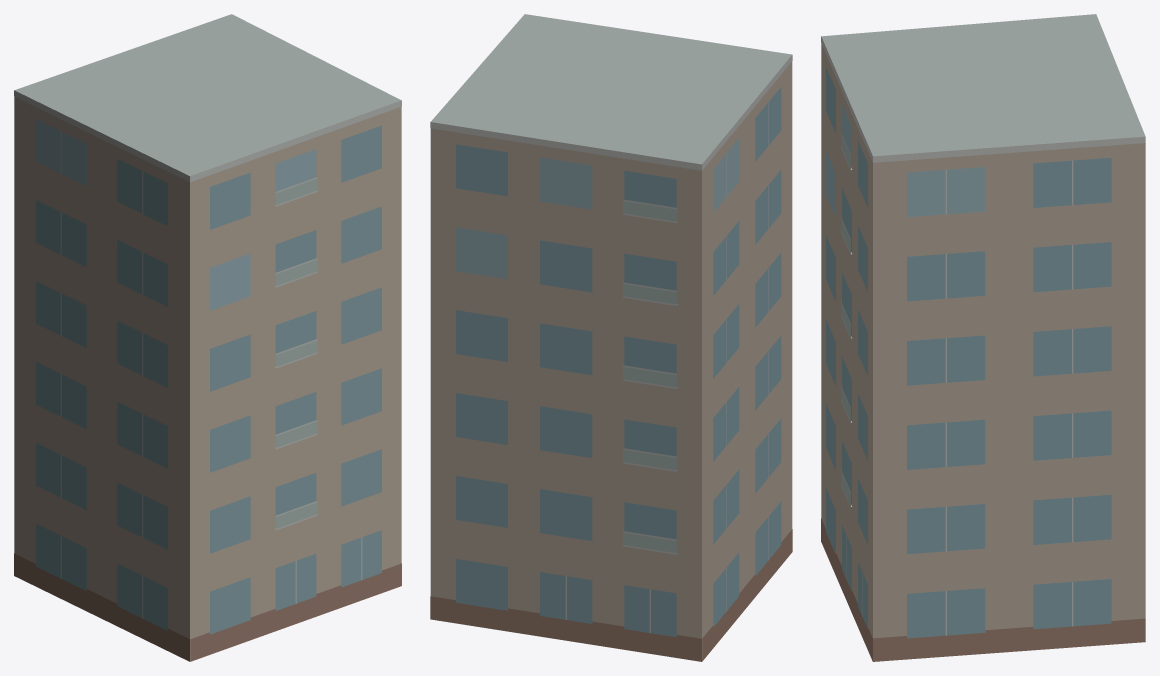
Rendered from survey-upis-32705571.glb.
3 views of the same model, side by side, from view 1: azimuth 30°, elevation 25°; view 2: azimuth 150°, elevation 25°; view 3: azimuth 270°, elevation 25° (orthographic). The views are drawn at different scales.
Visible parts, largest first — view 1: survey-upis-32705571.tmp; view 2: survey-upis-32705571.tmp; view 3: survey-upis-32705571.tmp.
Boxes of the visible parts, <box> form: survey-upis-32705571.tmp: <box>14,14,401,661</box>; survey-upis-32705571.tmp: <box>430,14,792,661</box>; survey-upis-32705571.tmp: <box>821,14,1145,661</box>.
Bounding box in the file's own units: 11.61 × 19.2 × 11.18.
